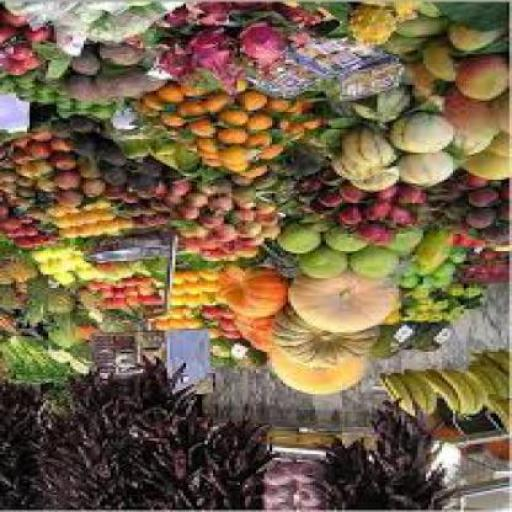biodegradable: (113, 363, 212, 511), (37, 373, 119, 511), (374, 401, 463, 511), (274, 307, 386, 374), (291, 277, 404, 336), (196, 427, 273, 511), (2, 383, 47, 511), (326, 438, 387, 511), (272, 354, 372, 396), (221, 266, 293, 320), (194, 33, 248, 100), (445, 99, 501, 158), (239, 26, 291, 84), (84, 232, 177, 264), (388, 116, 458, 152), (275, 2, 326, 50), (460, 56, 511, 104), (348, 127, 402, 172), (96, 338, 146, 384), (159, 41, 205, 91), (22, 338, 76, 380), (100, 71, 170, 101), (440, 2, 510, 32), (350, 4, 400, 44), (30, 280, 84, 317), (396, 155, 458, 187), (423, 40, 463, 88), (238, 313, 283, 355), (273, 148, 334, 178), (442, 370, 480, 418), (65, 76, 121, 108), (450, 20, 506, 52), (6, 340, 51, 379), (426, 376, 466, 418), (299, 249, 353, 280), (453, 370, 487, 418), (353, 249, 404, 280), (3, 338, 38, 383), (156, 2, 205, 34), (377, 324, 418, 362), (418, 234, 455, 276), (463, 152, 511, 184), (474, 358, 512, 398), (383, 375, 417, 419), (192, 2, 246, 29), (280, 3, 340, 27), (318, 102, 366, 132), (267, 241, 302, 281), (100, 311, 151, 338), (36, 44, 72, 82), (281, 226, 326, 256), (46, 310, 81, 348), (318, 2, 353, 39), (412, 373, 442, 415), (412, 81, 447, 116), (404, 54, 439, 89), (334, 145, 369, 180), (380, 39, 431, 63), (402, 376, 434, 414), (364, 2, 426, 21), (99, 44, 148, 68), (356, 220, 398, 248), (54, 350, 94, 379), (324, 228, 369, 253), (388, 230, 426, 259), (202, 91, 242, 118), (235, 342, 272, 371), (178, 145, 205, 184), (100, 313, 140, 338), (356, 172, 401, 194), (19, 299, 51, 329), (232, 2, 275, 24), (43, 379, 70, 414), (137, 336, 167, 367), (6, 261, 40, 288), (273, 120, 307, 147), (119, 139, 153, 166), (476, 134, 511, 160), (428, 326, 458, 356), (469, 368, 498, 398), (178, 253, 221, 273), (132, 160, 170, 182), (2, 290, 32, 317), (73, 135, 105, 160), (399, 22, 455, 36), (442, 146, 477, 168), (218, 130, 253, 152), (167, 234, 202, 256), (76, 54, 108, 78), (404, 327, 436, 351), (132, 126, 183, 141), (100, 166, 134, 188), (472, 38, 509, 58), (429, 185, 466, 205), (205, 91, 234, 116), (242, 90, 272, 114), (140, 90, 170, 114), (388, 206, 420, 228), (2, 4, 30, 29), (270, 463, 299, 487), (297, 461, 326, 485), (278, 180, 302, 209), (238, 249, 272, 269), (102, 147, 129, 172), (482, 223, 511, 246), (299, 486, 329, 508), (35, 106, 65, 128), (27, 139, 54, 163), (22, 162, 56, 181), (54, 332, 86, 352), (372, 187, 404, 207), (160, 85, 192, 105), (221, 110, 253, 130), (305, 134, 345, 150), (140, 183, 172, 203), (76, 291, 105, 313), (487, 350, 511, 376), (3, 314, 27, 340), (490, 396, 509, 428), (458, 174, 490, 193), (469, 211, 501, 230), (471, 189, 501, 209), (210, 224, 240, 244), (59, 189, 86, 211), (447, 297, 488, 311), (340, 207, 369, 226), (364, 203, 396, 220), (10, 43, 38, 62), (458, 276, 511, 286), (237, 191, 261, 213), (210, 197, 234, 219), (267, 99, 302, 114), (221, 149, 261, 162), (154, 141, 180, 161), (396, 192, 428, 208), (181, 104, 213, 120), (313, 205, 342, 222), (73, 122, 108, 136), (162, 110, 189, 128), (86, 179, 108, 201), (264, 491, 296, 506), (2, 240, 32, 256), (97, 104, 121, 124), (440, 205, 472, 220), (320, 170, 348, 187), (181, 84, 215, 98), (54, 154, 80, 172), (237, 224, 266, 240), (342, 188, 369, 205), (14, 151, 38, 170), (498, 398, 511, 433), (192, 122, 218, 139), (302, 112, 324, 132), (246, 116, 275, 131), (213, 182, 240, 198), (27, 32, 57, 46), (212, 340, 234, 359), (181, 226, 213, 239), (234, 237, 266, 250), (59, 176, 86, 191), (490, 444, 511, 463), (320, 192, 348, 206), (436, 429, 466, 442), (205, 218, 229, 234), (401, 259, 421, 278), (299, 178, 326, 192), (434, 264, 461, 278), (78, 267, 103, 282), (2, 31, 24, 48), (54, 124, 76, 141), (188, 195, 210, 212), (420, 217, 448, 230), (448, 222, 474, 236), (237, 209, 261, 224), (2, 170, 24, 186), (24, 60, 51, 73), (135, 105, 162, 118), (199, 140, 224, 154), (436, 276, 461, 290), (146, 263, 172, 276), (310, 221, 336, 234), (262, 146, 288, 159), (434, 86, 458, 100), (227, 83, 251, 97), (226, 162, 254, 174), (242, 168, 270, 180), (251, 136, 275, 150), (100, 265, 122, 280), (256, 203, 278, 218), (96, 209, 118, 224), (213, 251, 240, 263), (183, 205, 202, 222), (83, 326, 103, 342), (143, 297, 167, 310), (140, 180, 164, 193), (261, 180, 285, 193), (235, 177, 259, 190), (202, 241, 226, 254), (18, 76, 40, 90), (40, 81, 62, 95), (167, 196, 189, 210), (172, 183, 194, 197), (32, 127, 54, 141), (212, 356, 234, 370), (132, 262, 154, 275), (202, 150, 224, 163), (204, 170, 226, 183), (108, 188, 130, 201), (447, 287, 469, 300), (221, 321, 243, 334), (11, 62, 30, 77), (43, 180, 62, 195), (239, 191, 259, 205), (64, 214, 84, 228), (256, 218, 283, 228), (34, 251, 56, 263), (402, 276, 424, 288), (48, 207, 68, 220), (29, 209, 49, 222), (468, 239, 488, 252), (153, 321, 173, 334), (116, 266, 135, 279), (498, 207, 511, 226), (132, 217, 151, 230), (183, 271, 202, 284), (300, 503, 330, 511), (59, 274, 79, 286), (84, 164, 100, 179), (263, 228, 283, 240), (444, 311, 464, 323), (472, 288, 488, 303), (424, 277, 440, 292), (496, 264, 511, 280), (204, 309, 224, 321), (2, 269, 16, 286), (271, 503, 300, 511), (2, 147, 14, 166), (412, 292, 431, 304), (202, 282, 221, 294), (2, 56, 16, 72), (464, 264, 480, 278), (221, 307, 237, 321), (189, 295, 205, 309), (140, 290, 162, 300), (22, 94, 44, 104), (75, 102, 97, 112), (501, 184, 511, 206), (10, 141, 32, 151), (34, 226, 56, 236), (80, 226, 102, 236), (186, 320, 208, 330), (43, 266, 59, 279), (72, 258, 88, 271), (62, 100, 78, 113), (197, 185, 213, 198), (14, 206, 30, 219), (84, 214, 100, 227), (205, 253, 221, 266), (404, 309, 420, 322), (456, 236, 472, 249), (170, 318, 186, 331), (172, 297, 188, 310), (56, 251, 76, 261), (40, 96, 60, 106), (21, 180, 41, 190), (425, 299, 445, 309), (185, 309, 205, 319), (204, 297, 224, 307), (64, 228, 80, 240), (432, 313, 448, 325), (172, 274, 188, 286), (156, 274, 175, 284), (19, 90, 38, 100), (302, 197, 321, 207), (3, 185, 22, 195), (156, 214, 175, 224), (59, 260, 73, 273), (119, 220, 132, 234), (223, 337, 248, 344), (143, 206, 156, 219), (479, 265, 493, 277), (210, 330, 224, 342), (188, 284, 202, 296), (472, 446, 488, 456), (129, 299, 145, 309), (124, 290, 140, 300), (170, 174, 186, 184), (124, 197, 140, 207), (102, 226, 122, 234), (450, 254, 466, 264), (469, 253, 485, 263), (113, 292, 127, 302), (420, 312, 434, 322), (488, 251, 502, 261), (78, 112, 97, 119), (116, 299, 129, 309), (73, 251, 86, 261), (57, 222, 70, 232), (170, 309, 183, 319), (40, 197, 56, 205), (100, 203, 116, 211), (16, 194, 41, 199), (210, 162, 224, 170), (205, 273, 221, 280), (8, 81, 19, 91), (151, 220, 164, 228), (140, 281, 154, 288), (62, 112, 76, 119), (86, 205, 100, 212), (175, 288, 189, 295), (108, 301, 116, 313), (121, 280, 137, 286), (111, 284, 127, 290), (94, 286, 110, 291), (3, 89, 19, 94), (428, 206, 448, 210), (24, 201, 40, 206), (501, 255, 511, 263), (102, 292, 113, 299), (70, 211, 86, 214)
